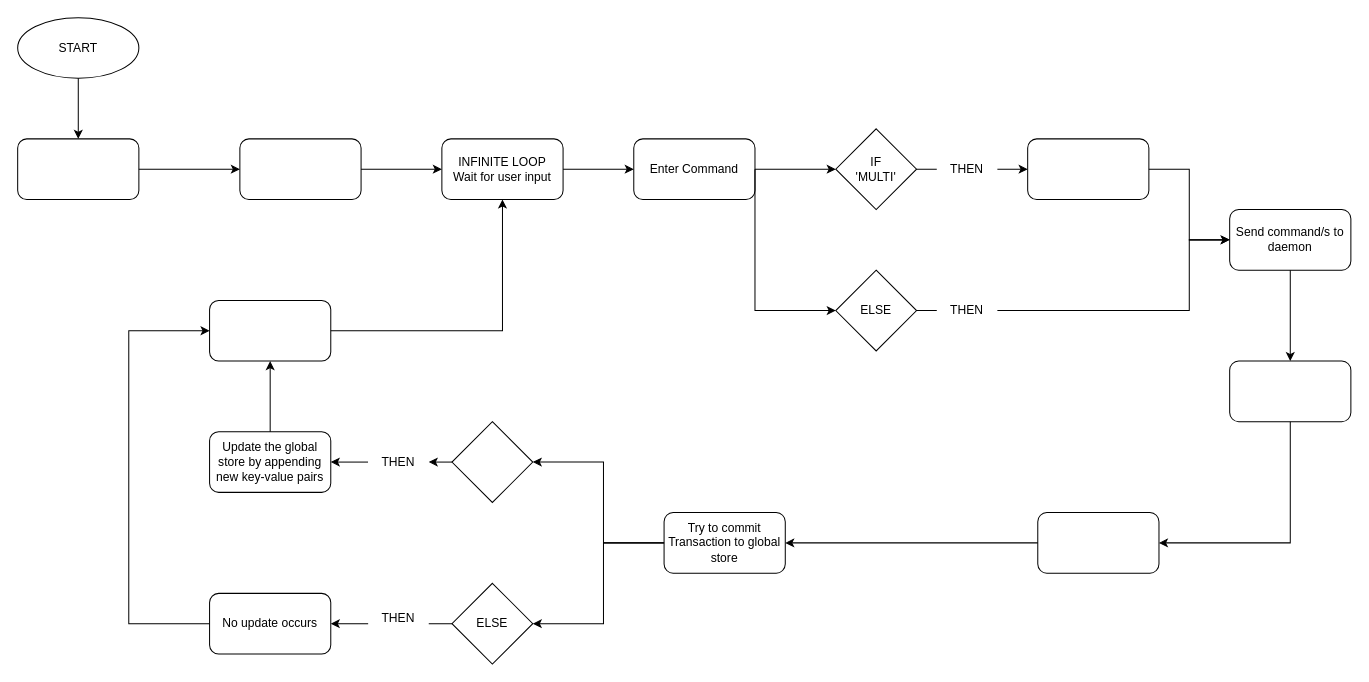
Image size: 1369x682. Some labels were removed from this diagram. The shapes that lost their labels are listed below. From the top down, each one's box as (x1, y1, x2, y2) in pixels, then its label:
(17, 138, 139, 199): Run REPL
(239, 138, 361, 199): REPL connects to daemon
(1027, 138, 1149, 199): Buffer multiple commands until 'EXEC' is received
(209, 299, 331, 361): Send message back to REPL (user)
(1229, 360, 1351, 422): Create a new Transaction
(451, 421, 533, 502): IF SUCCESS
(1037, 512, 1159, 573): Parse and handle commands
